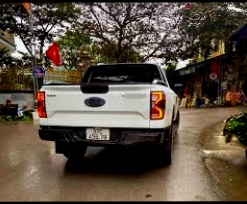Bien-so: (95, 129, 118, 141)
